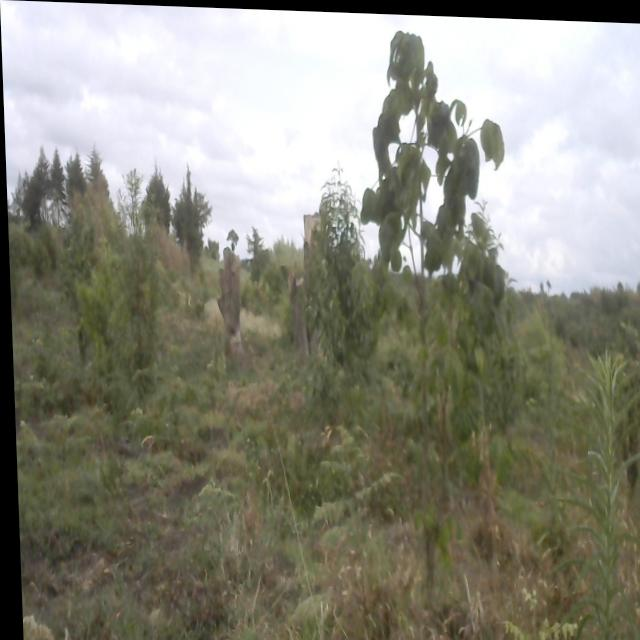Vitex keniensis: (363, 36, 483, 451)
